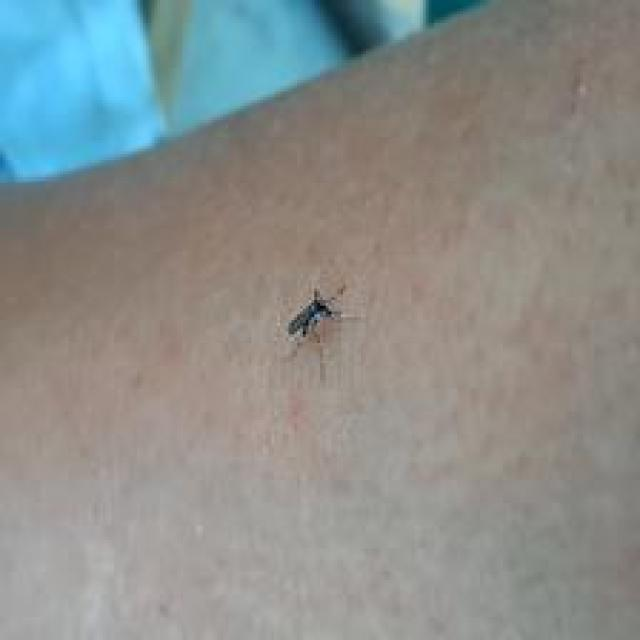Aedes albopictus: (286, 283, 348, 343)
